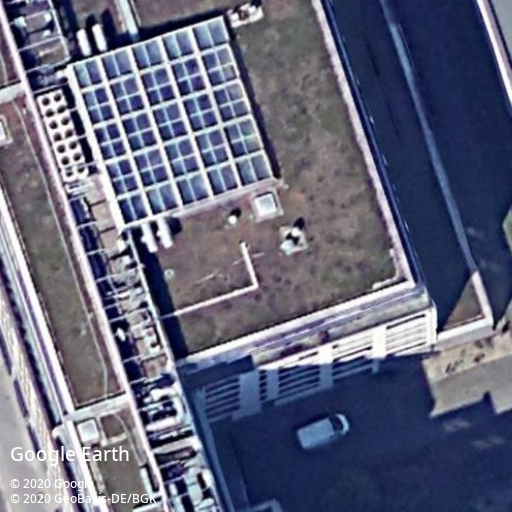Chiller: (36, 88, 90, 181)
